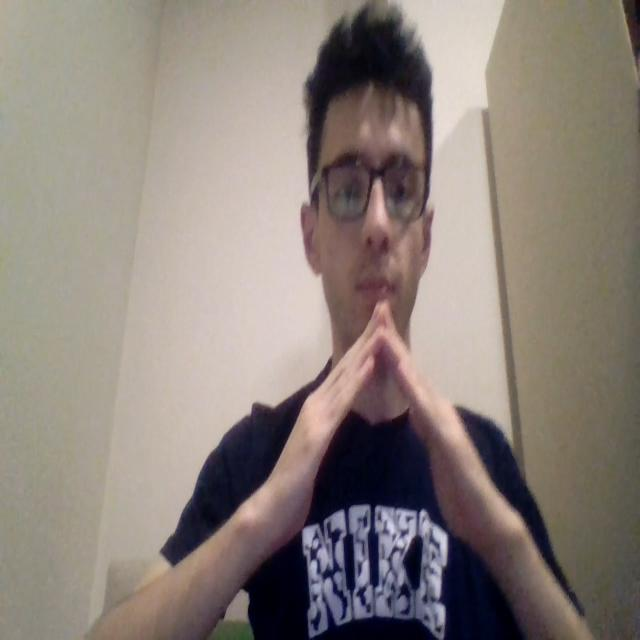house: (236, 302, 517, 552)
